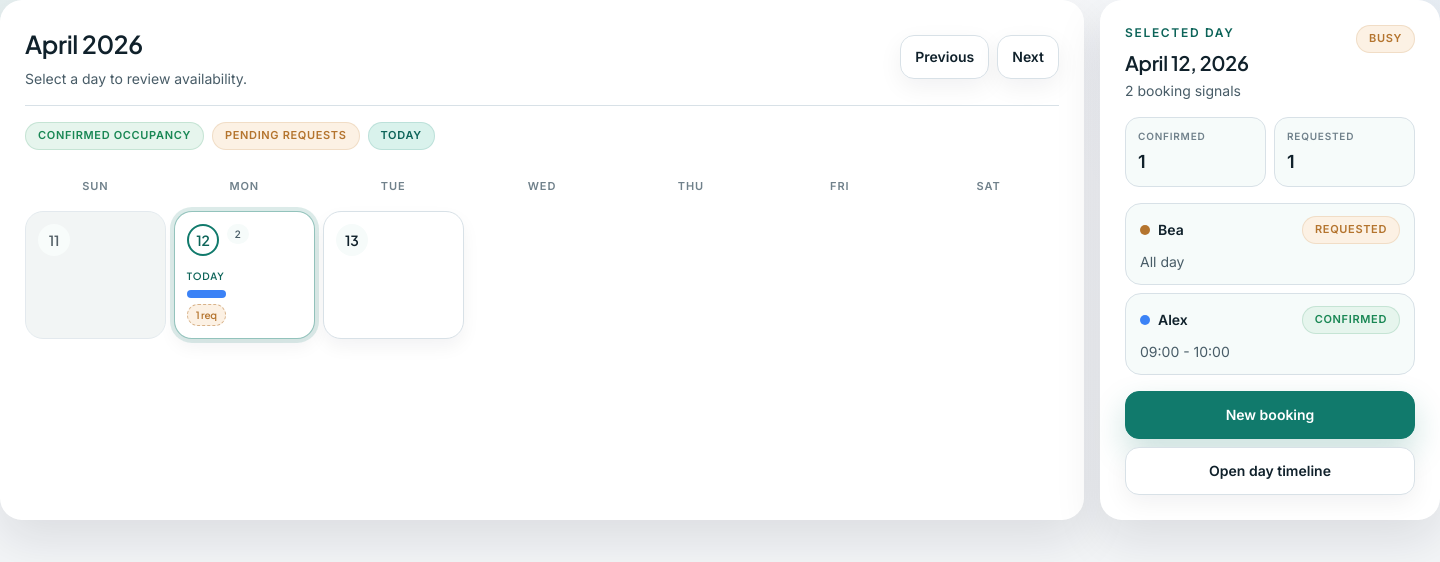
it: CalendarWorkspace › updates the detail panel when a bookable date is selected
Click the button named "Show bookings for 2026-04-13" at [393, 275], box [323,211,464,339]
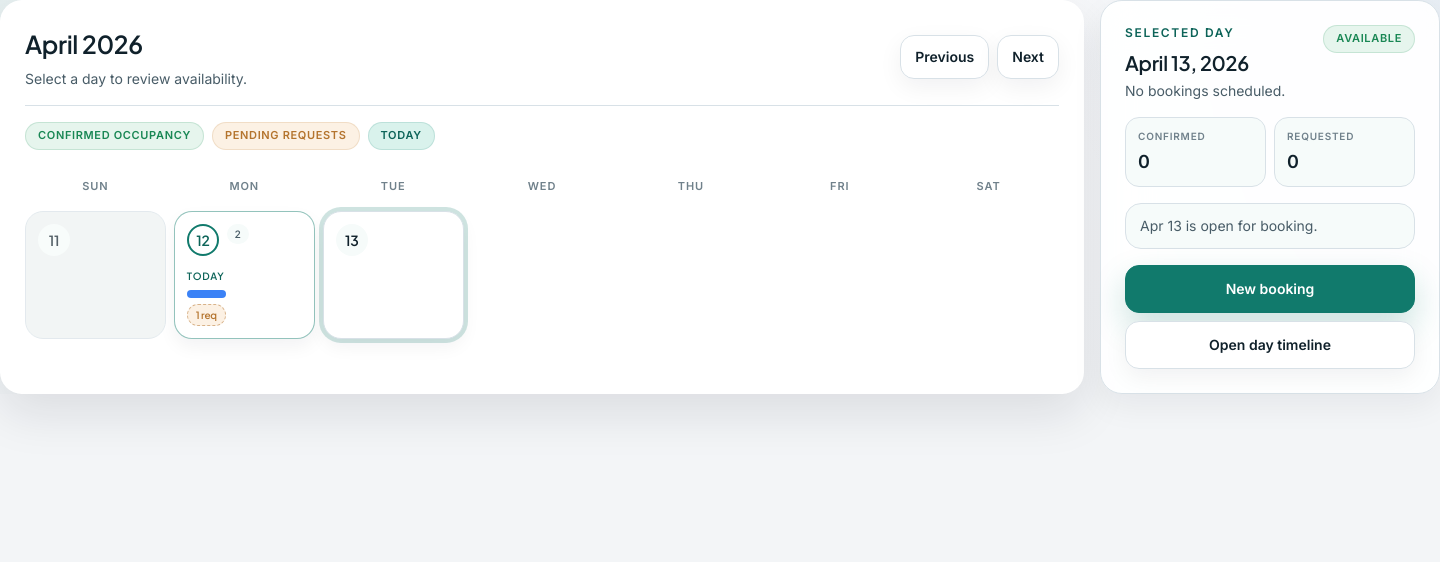
expect the heading "April 13, 2026" is shown: met, box [1125,50,1249,75]
expect the text "Apr 13 is open for booking." is shown: met, box [1125,203,1415,249]
